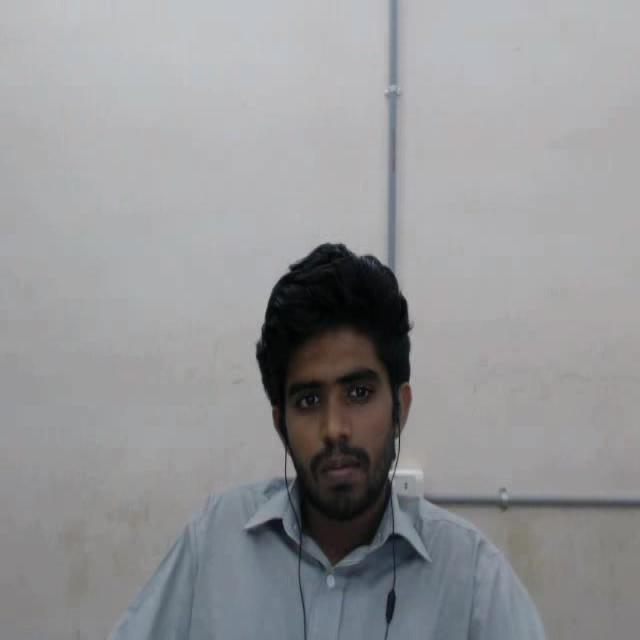Engaged: (226, 220, 442, 564)
